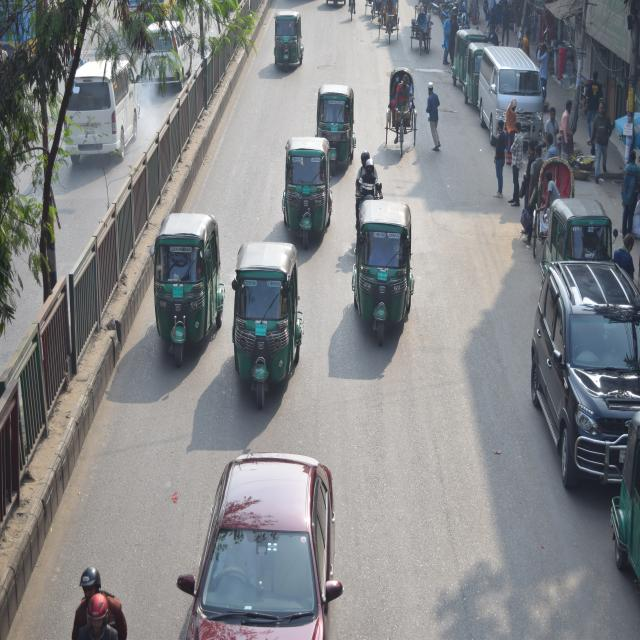car: (189, 439, 340, 640), (531, 249, 640, 487)
microbus: (58, 60, 140, 162), (473, 45, 540, 156)
motorbike: (346, 154, 386, 223)
